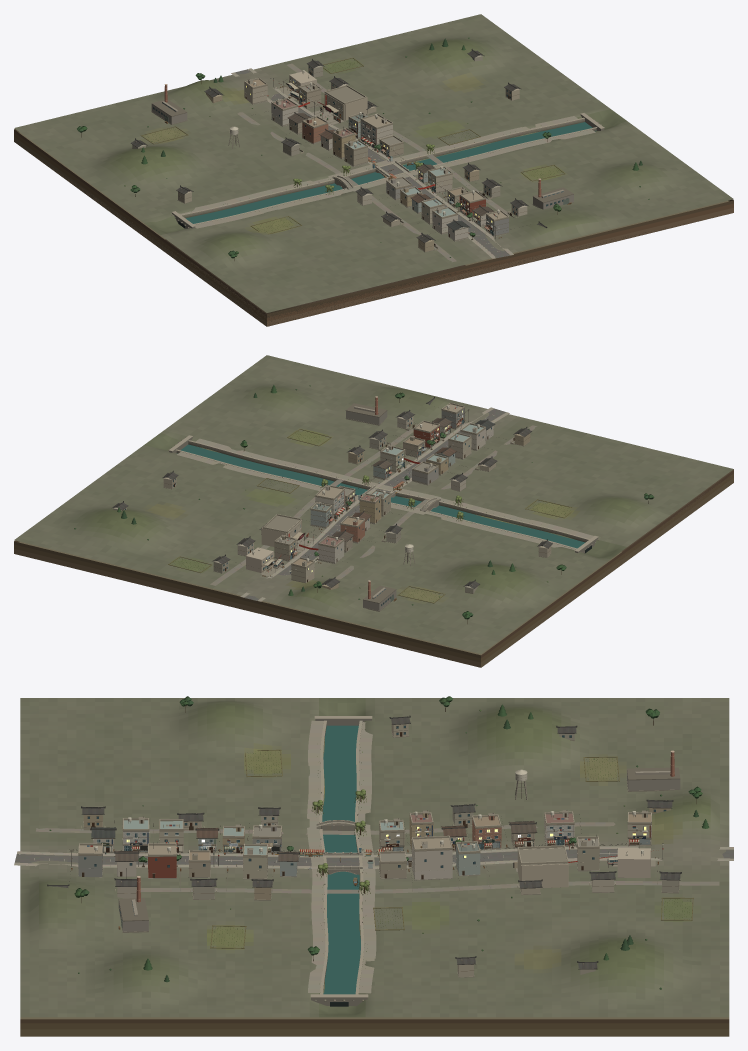
File: town_wip.glb
The picture shows the model from 3 angles, top to bottom: view 1: azimuth 30°, elevation 25°; view 2: azimuth 150°, elevation 25°; view 3: azimuth 270°, elevation 25°; orthographic projection. The views are drawn at different scales.
Parts seen in each view (by area): view 1: Town_Matte, Town_Rough, Town_Stone, Water_Canal, Town_Metal; view 2: Town_Matte, Town_Rough, Town_Stone, Water_Canal, Town_Metal; view 3: Town_Matte, Town_Rough, Water_Canal, Town_Stone, Town_Metal, Town_GlassDark.
Boxes of the visible parts, x1=… form: Town_Matte: x1=14, y1=14, x2=733, y2=326; Town_Rough: x1=140, y1=57, x2=595, y2=262; Town_Stone: x1=151, y1=75, x2=604, y2=252; Water_Canal: x1=186, y1=122, x2=596, y2=223; Town_Metal: x1=156, y1=70, x2=569, y2=234; Town_Matte: x1=14, y1=355, x2=733, y2=667; Town_Rough: x1=168, y1=397, x2=593, y2=603; Town_Stone: x1=163, y1=396, x2=598, y2=611; Water_Canal: x1=177, y1=444, x2=585, y2=548; Town_Metal: x1=252, y1=405, x2=488, y2=604; Town_Matte: x1=20, y1=696, x2=729, y2=1036; Town_Rough: x1=14, y1=720, x2=733, y2=993; Water_Canal: x1=322, y1=725, x2=360, y2=994; Town_Stone: x1=71, y1=716, x2=679, y2=1005; Town_Metal: x1=82, y1=769, x2=670, y2=927; Town_GlassDark: x1=84, y1=725, x2=666, y2=920.
Size of the model in its own units: 320 by 26.13 by 305.
14 materials, 1 textured.
